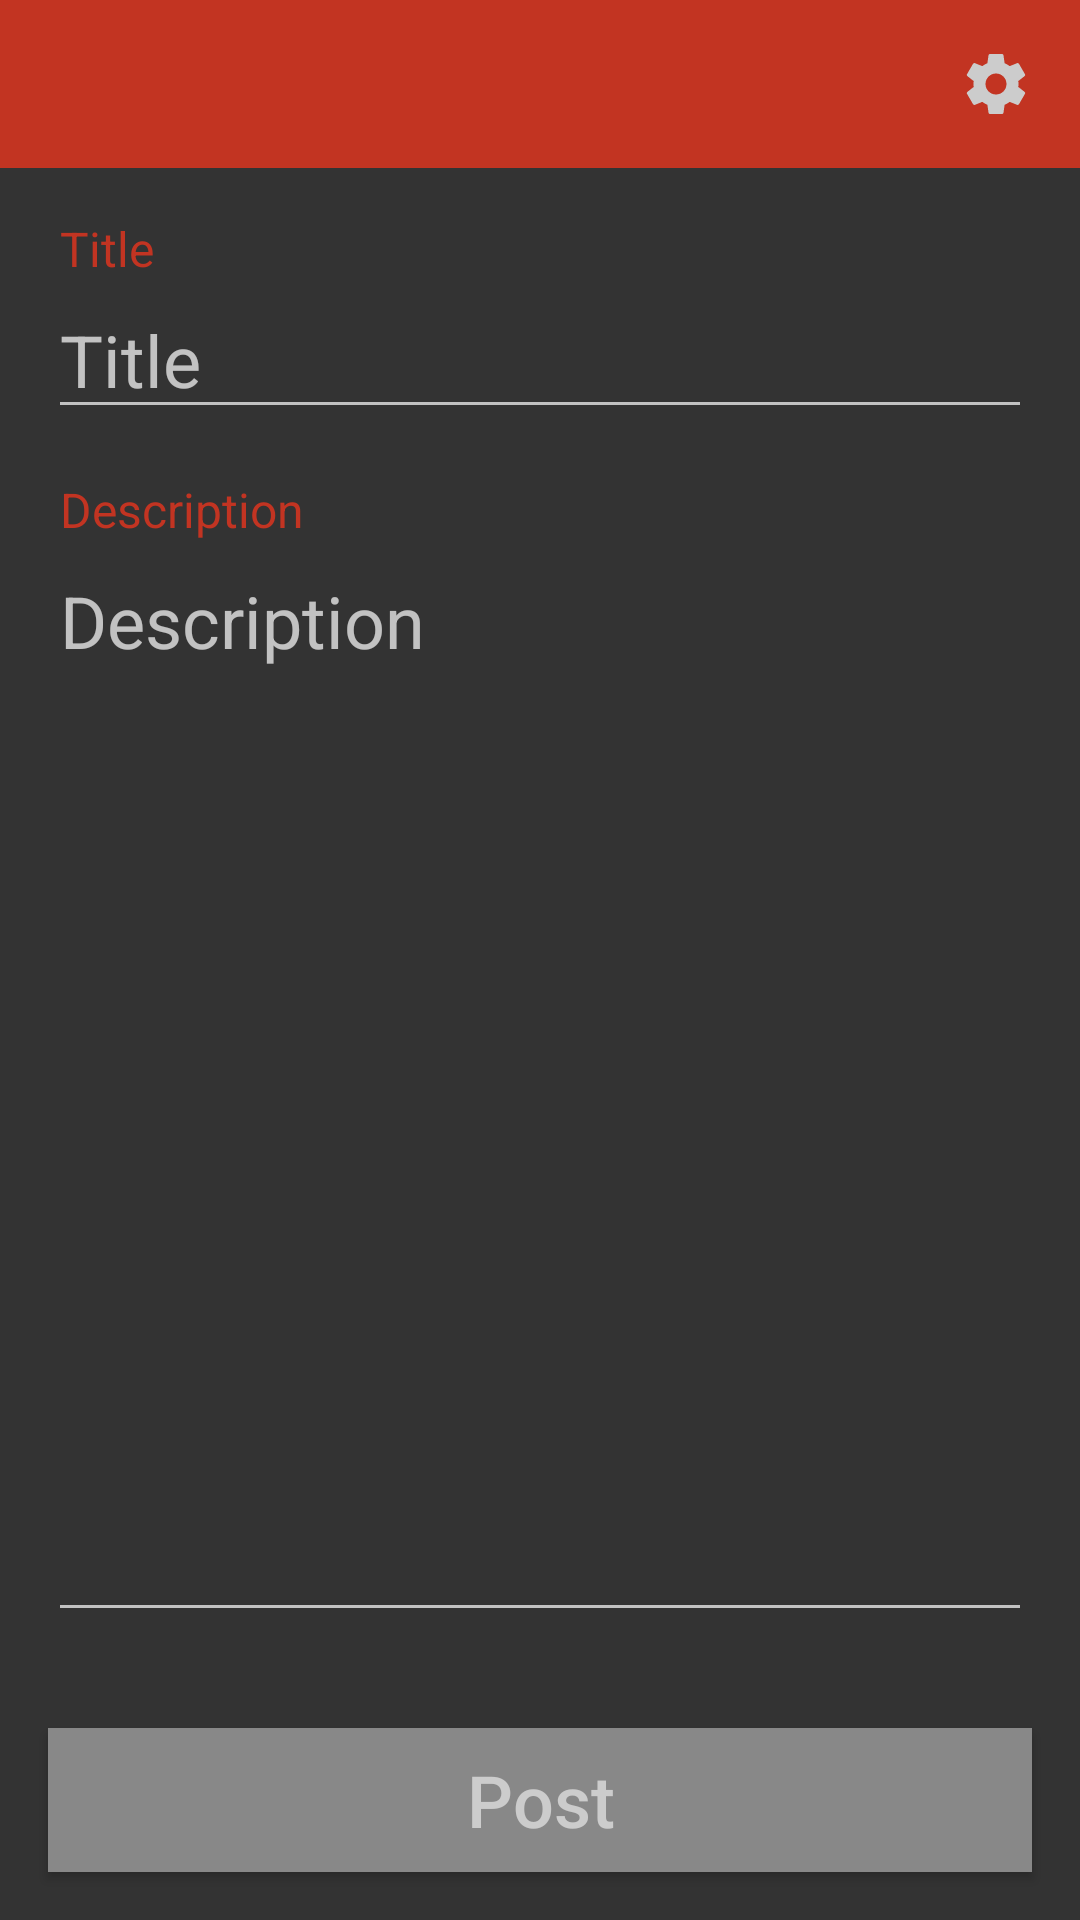

Where to tap for icons on this 1080x1920 app screen, as (x,y):
settings: (996,84)
